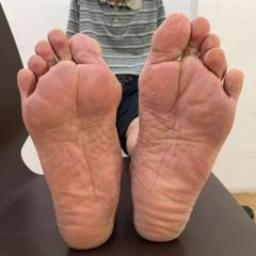Plantar View -Both Feet-: (8, 6, 250, 251)
